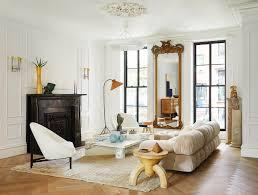chair: (29, 124, 78, 175), (122, 114, 141, 136), (139, 124, 154, 134)
fan: (101, 0, 144, 41)
light: (98, 76, 122, 135), (8, 56, 27, 77), (80, 65, 92, 80)
sofa: (140, 115, 219, 179)
table: (25, 92, 86, 155), (128, 150, 170, 188), (93, 135, 141, 158)
